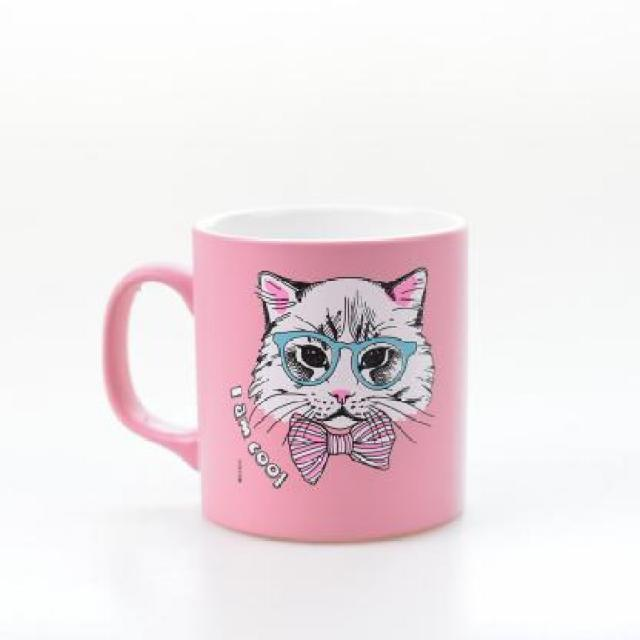taza: (101, 208, 472, 546)
